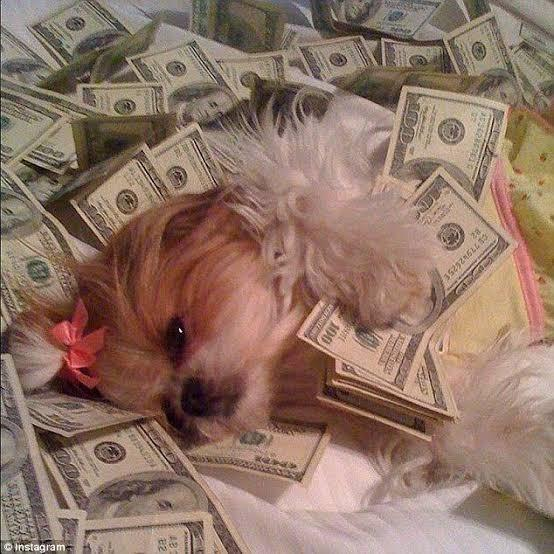adult_dog: (19, 86, 547, 543)
